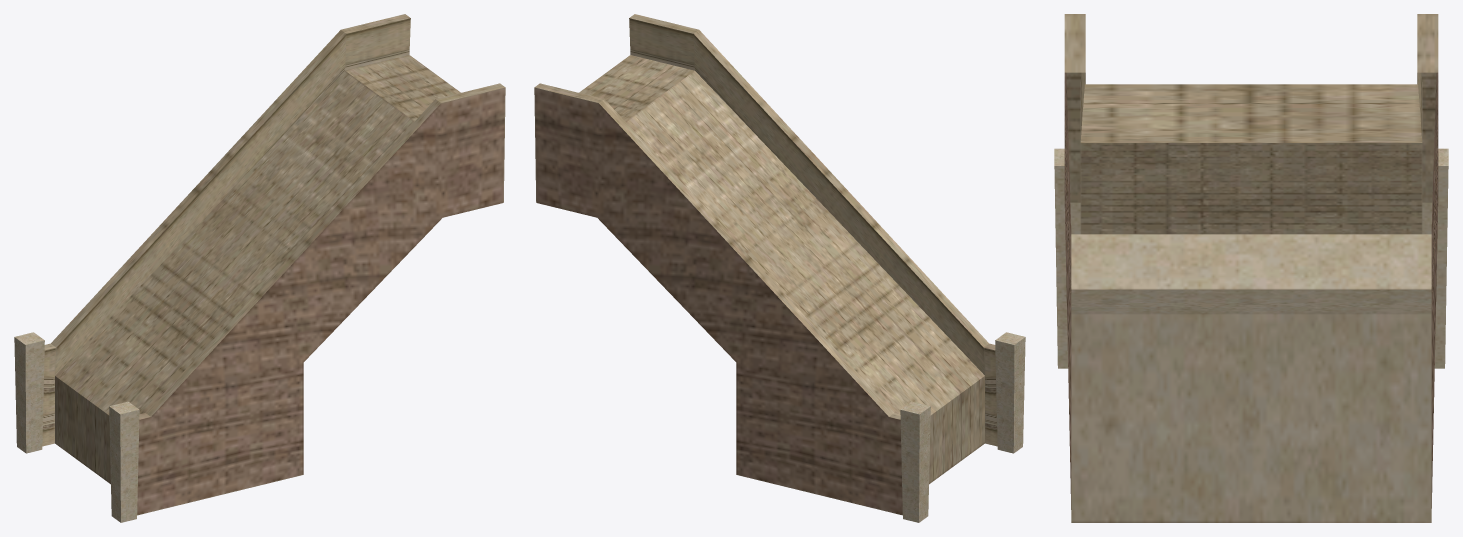
Rendered from thm_nboo_imprv_bridge_stairs_s01_l2.fbx.
3 renders of one model, left to right at view 1: azimuth 30°, elevation 25°; view 2: azimuth 150°, elevation 25°; view 3: azimuth 270°, elevation 25°, orthographic. The views are drawn at different scales.
Visible parts, largest first — view 1: mesh_node; view 2: mesh_node; view 3: mesh_node.
Part boxes in pixels (box(x1,y1,x2,y2)): mesh_node: box(14, 14, 505, 522); mesh_node: box(534, 14, 1025, 522); mesh_node: box(1054, 14, 1448, 522).
Bounding box in the file's own units: 12.04 × 10.08 × 5.69.
Materials: 1 (1 with a texture image).
